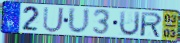2: (21, 4, 42, 34)
3: (92, 8, 111, 37)
R: (140, 11, 163, 38)
U: (67, 7, 91, 36), (42, 6, 66, 34), (119, 10, 142, 38)
